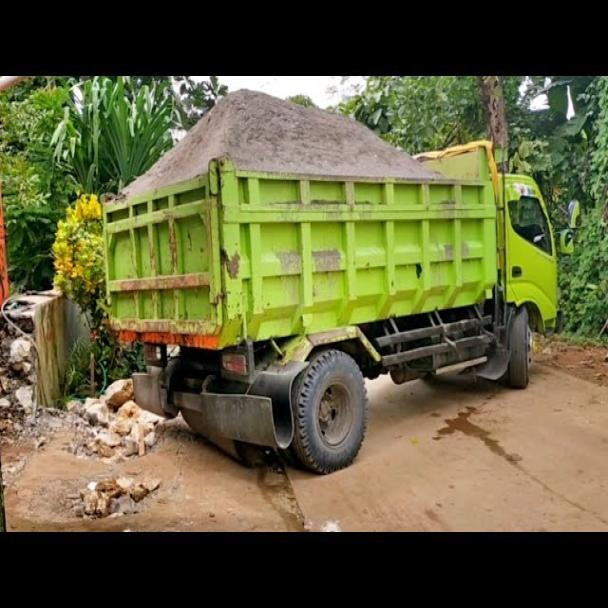Mobil: (102, 131, 570, 459)
